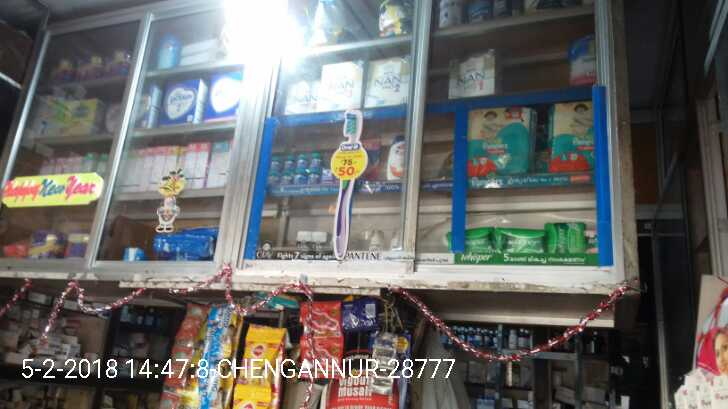vicks: (269, 151, 340, 184)
